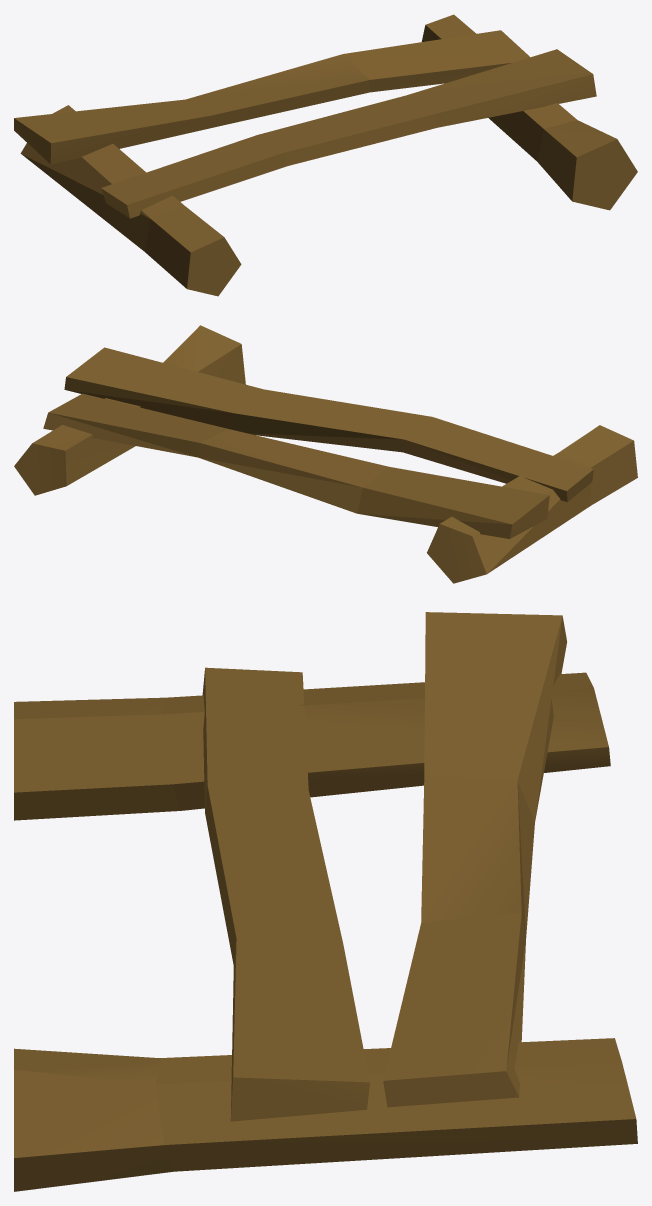
The model's file is LowPoly - Fence 02.fbx.
3 renders of one model, top to bottom at view 1: azimuth 30°, elevation 25°; view 2: azimuth 150°, elevation 25°; view 3: azimuth 270°, elevation 25°, orthographic. The views are drawn at different scales.
Visible parts, largest first — view 1: LowPoly - Fence 02; view 2: LowPoly - Fence 02; view 3: LowPoly - Fence 02.
Part boxes in pixels (x1,y1,x2,y2): LowPoly - Fence 02: [14, 14, 637, 296]; LowPoly - Fence 02: [14, 325, 637, 583]; LowPoly - Fence 02: [14, 612, 637, 1191].
Size of the model in its own units: 259 by 47.75 by 154.
